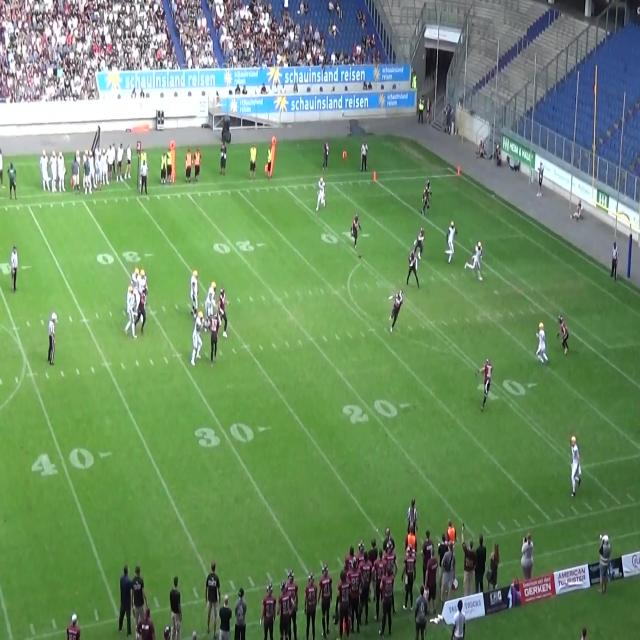1: (473, 380, 506, 406)
2: (341, 400, 372, 427)
3: (193, 424, 223, 452)
4: (31, 448, 58, 482)
american-football-players: (568, 438, 584, 499), (192, 308, 206, 368), (125, 284, 139, 340), (465, 242, 483, 284), (479, 358, 493, 412), (406, 245, 422, 291), (134, 282, 147, 337), (536, 320, 550, 368), (208, 312, 220, 368), (217, 287, 230, 338), (389, 290, 404, 333), (136, 267, 147, 322), (190, 268, 202, 316), (204, 279, 215, 328), (444, 221, 456, 264), (556, 316, 568, 358), (130, 263, 140, 313), (315, 174, 326, 213), (348, 213, 359, 251), (420, 179, 430, 218), (413, 228, 424, 260)
